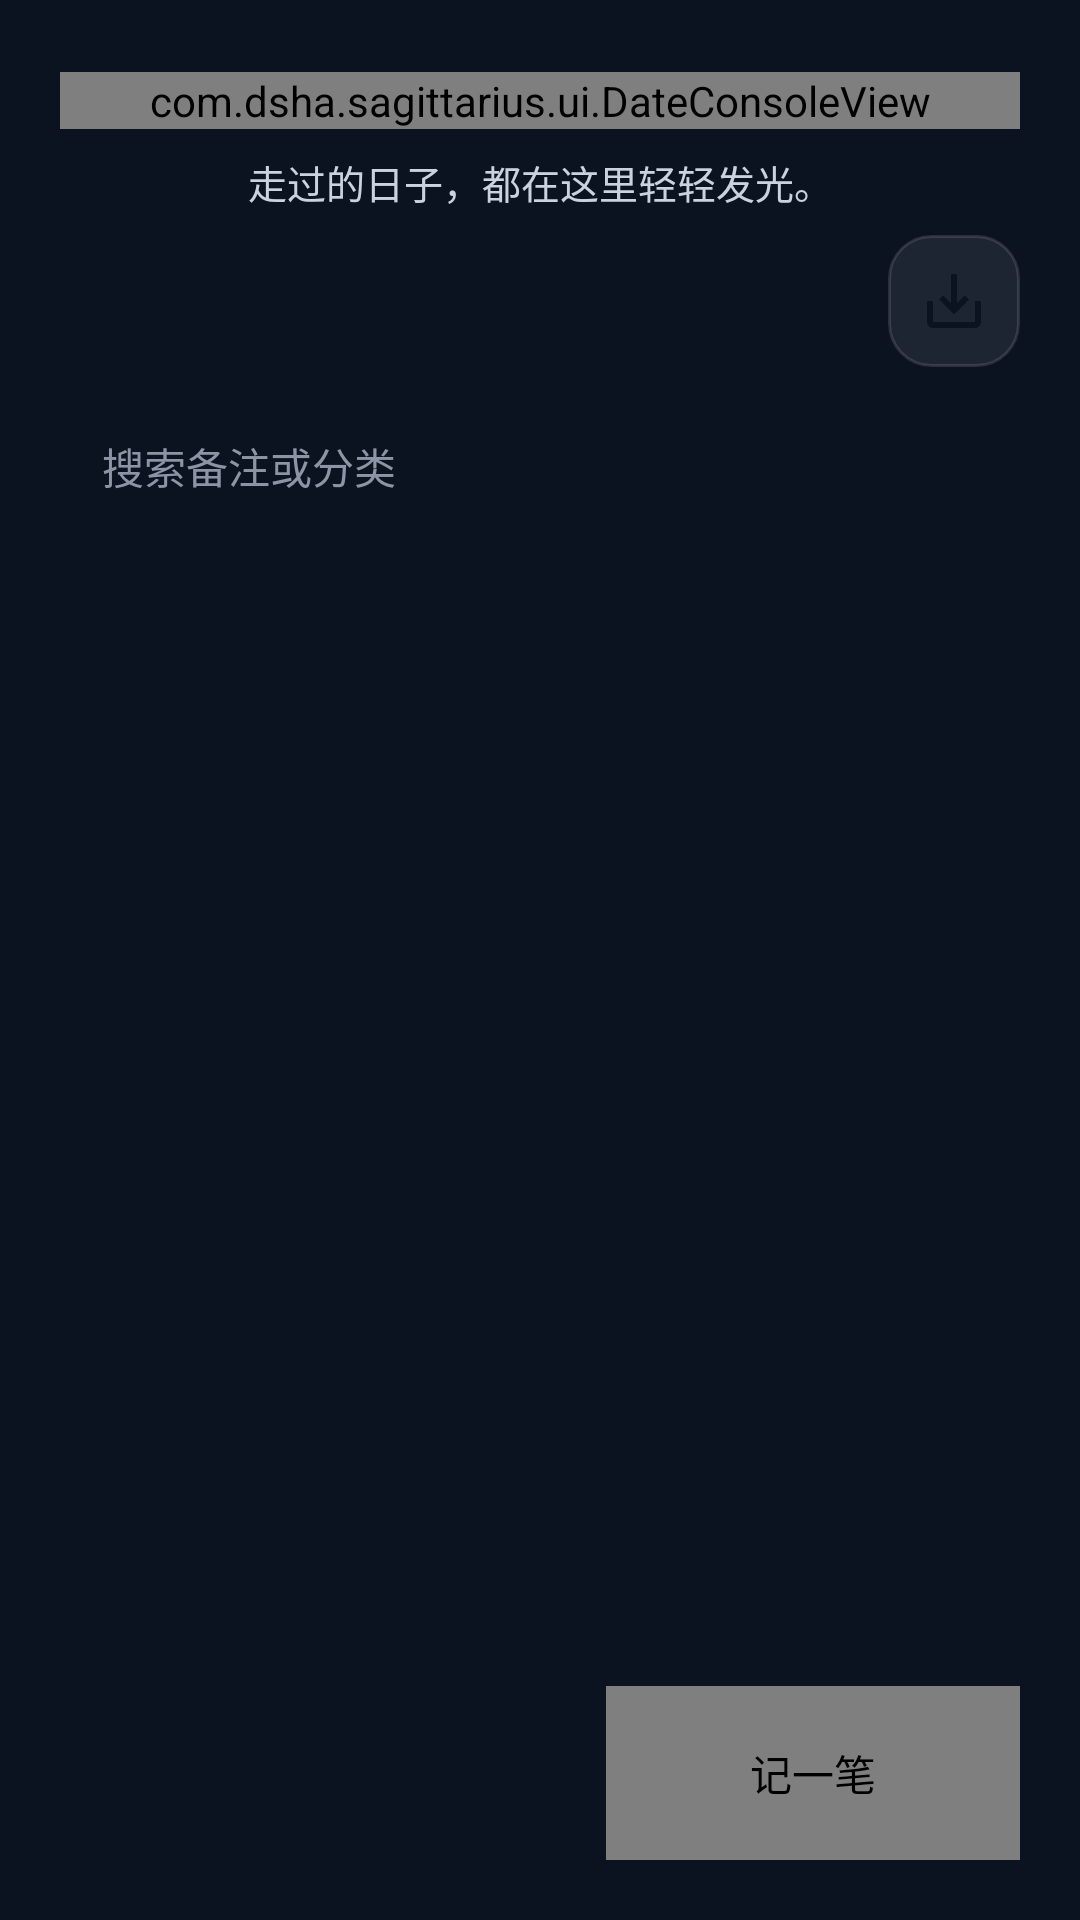

Where icons sit on this 1080 x 1920 app screen, as (x1=x1, y1=y1, x2=x2, y2=y2):
导出 CSV: (x1=888, y1=235, x2=1020, y2=367)
